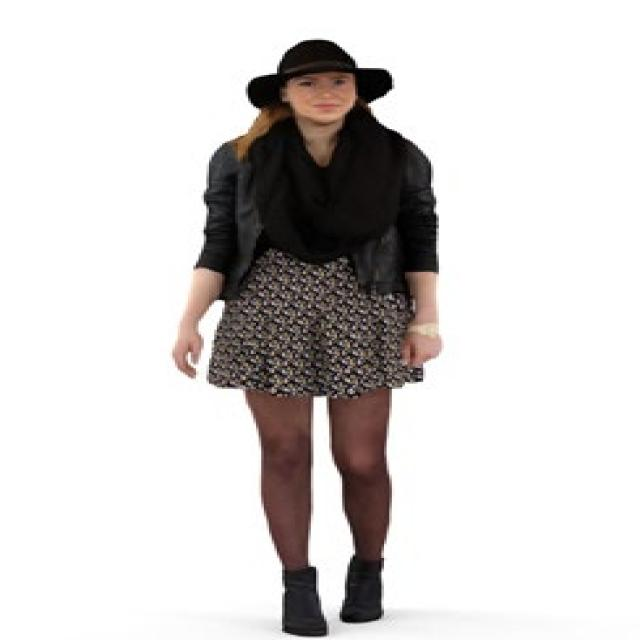standing: (169, 38, 458, 640)
